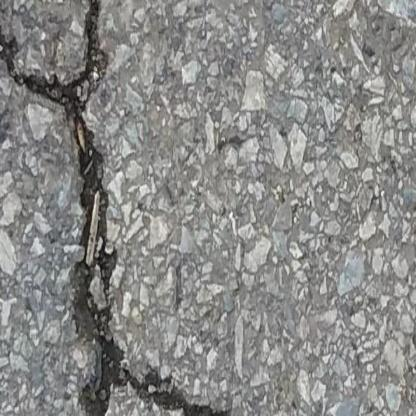Cracks: (0, 0, 241, 416)
